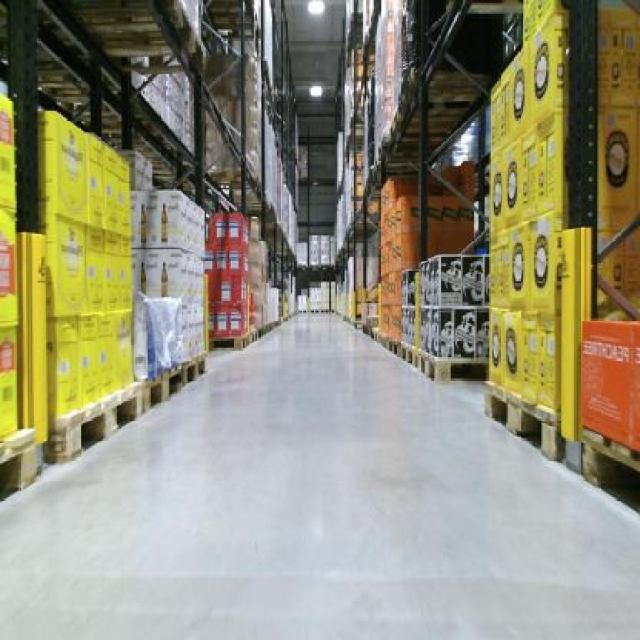pallet: (48, 377, 145, 474), (478, 377, 560, 471), (143, 358, 192, 420)
